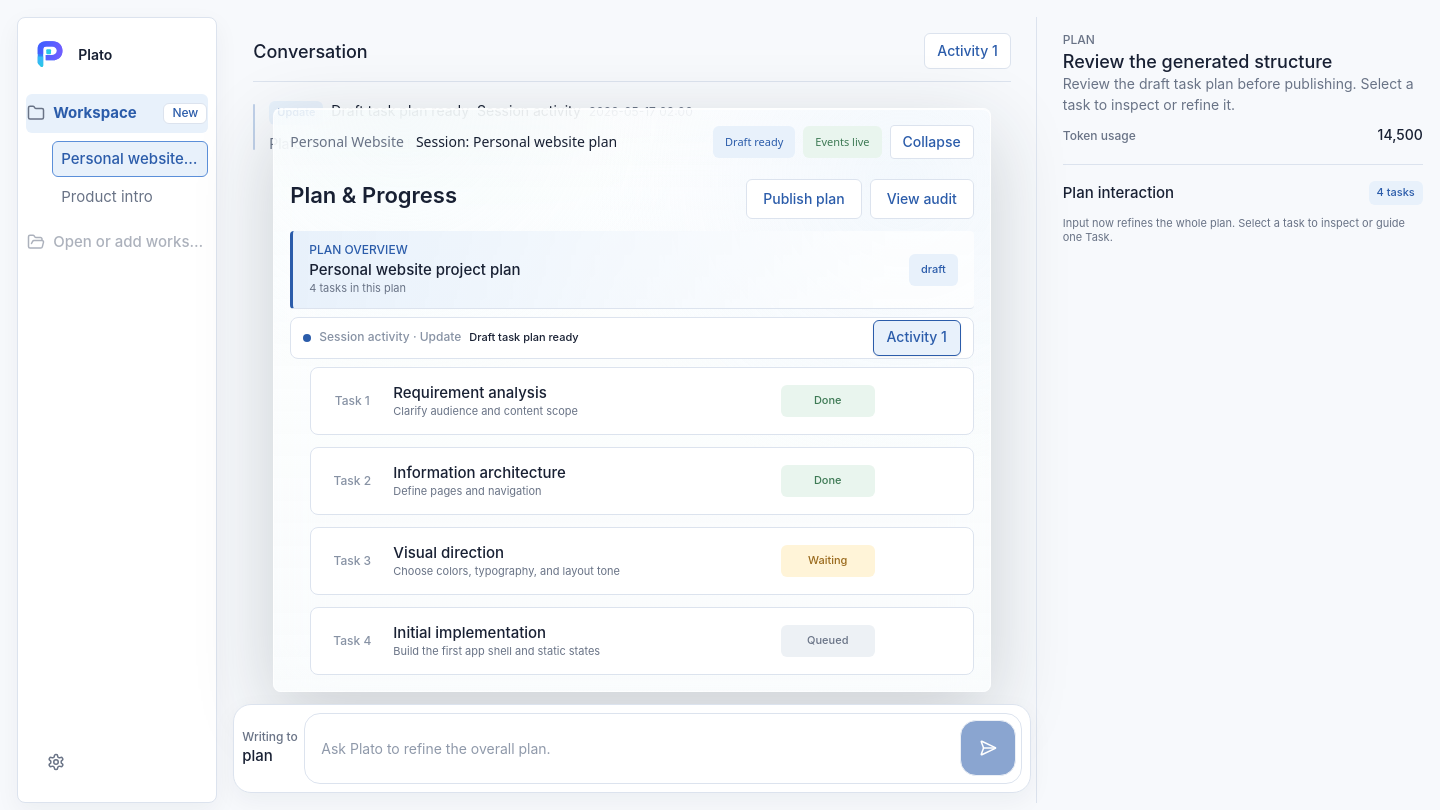
App › selects a TaskNode and scopes the input to that task
Click the button "Initial implementation".
click(352, 640)  # box [323, 620, 875, 662]
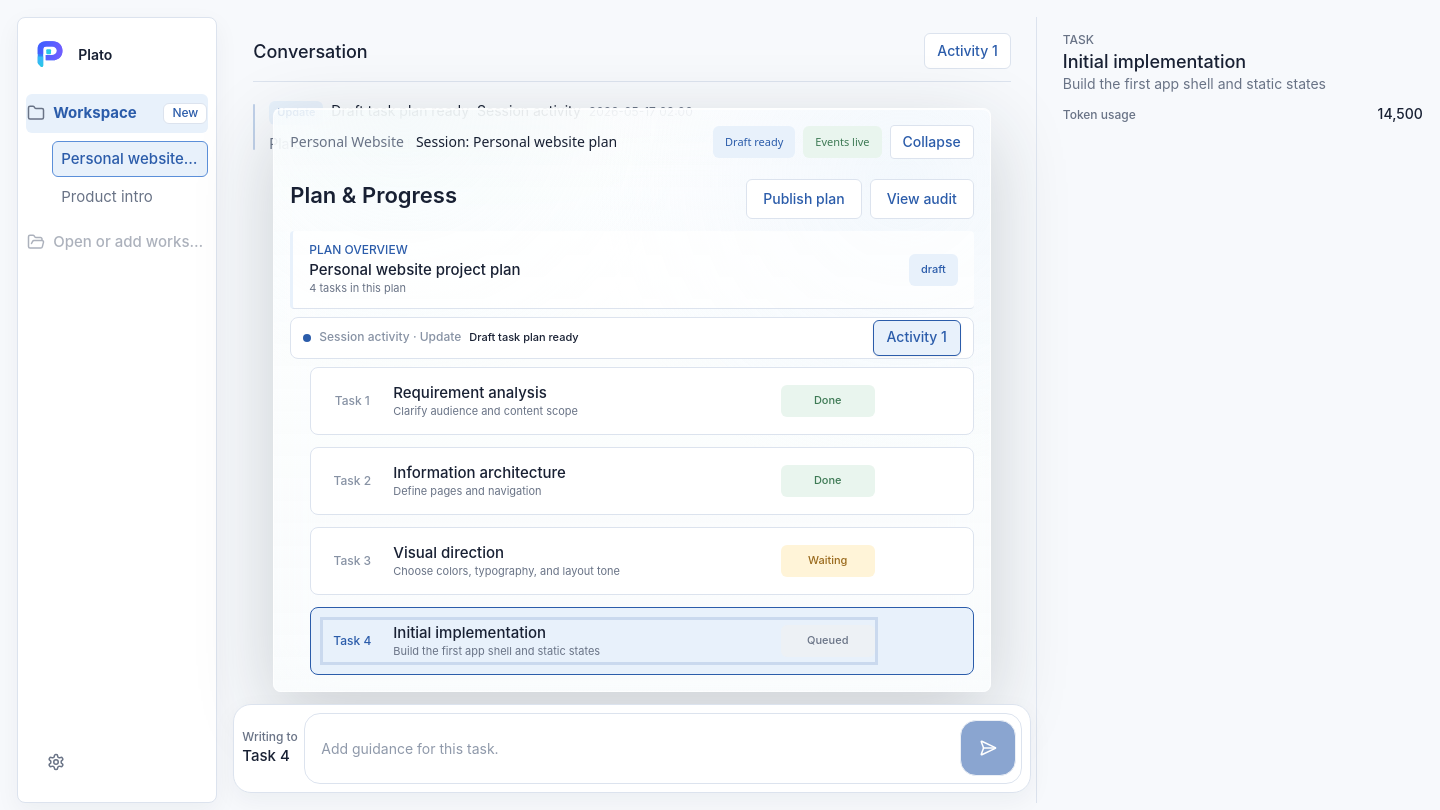
expect the element named "Details" is shown: met, box [1063, 32, 1423, 122]
expect the heading "Initial implementation" is shown: met, box [1063, 51, 1246, 72]
